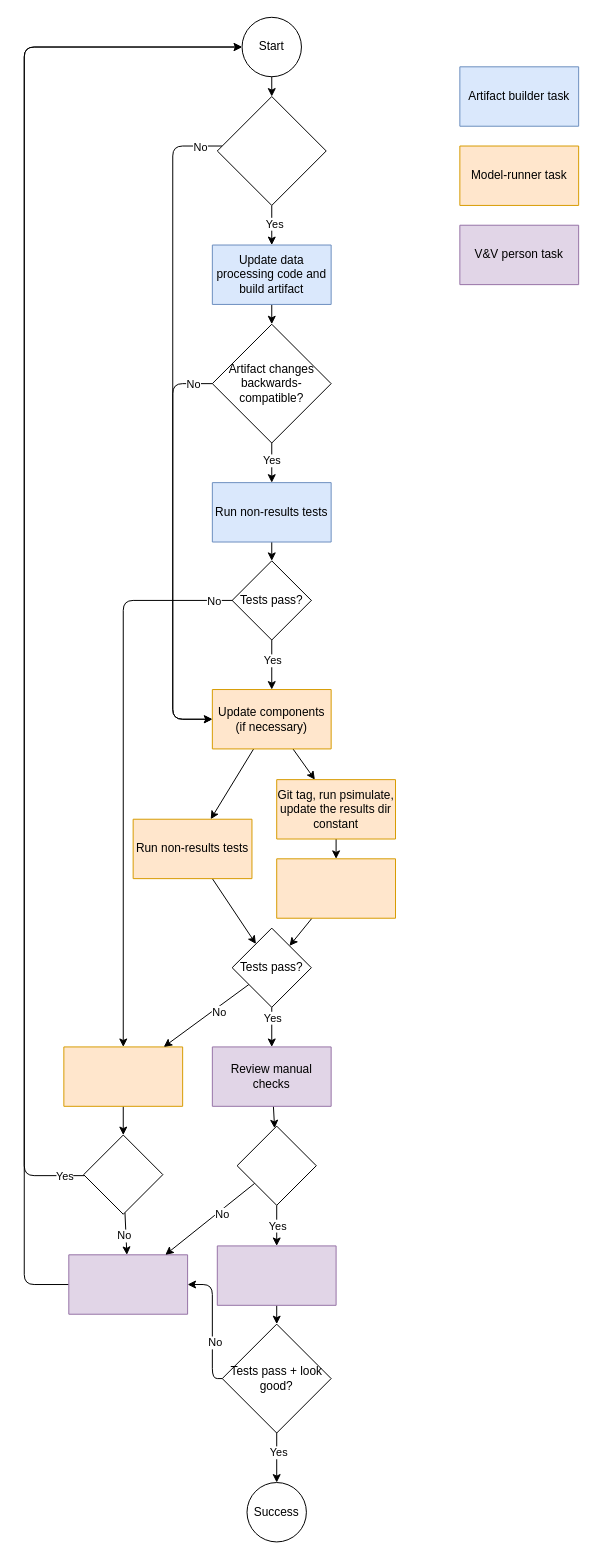
This 596x1559 diagram has some shape labels left out. Each missing label, with the centre of its shape:
"Artifact changes necessary?" goes at point 271,150.
"Found bug?" goes at point 123,1174.
"Implement additional checks" goes at point 276,1275.
"In-depth investigation, documentation of fix" goes at point 128,1284.
"Looks good?" goes at point 276,1165.
"Post on Slack, do a quick investigation" goes at point 123,1076.
"Run results tests" goes at point 336,888.
